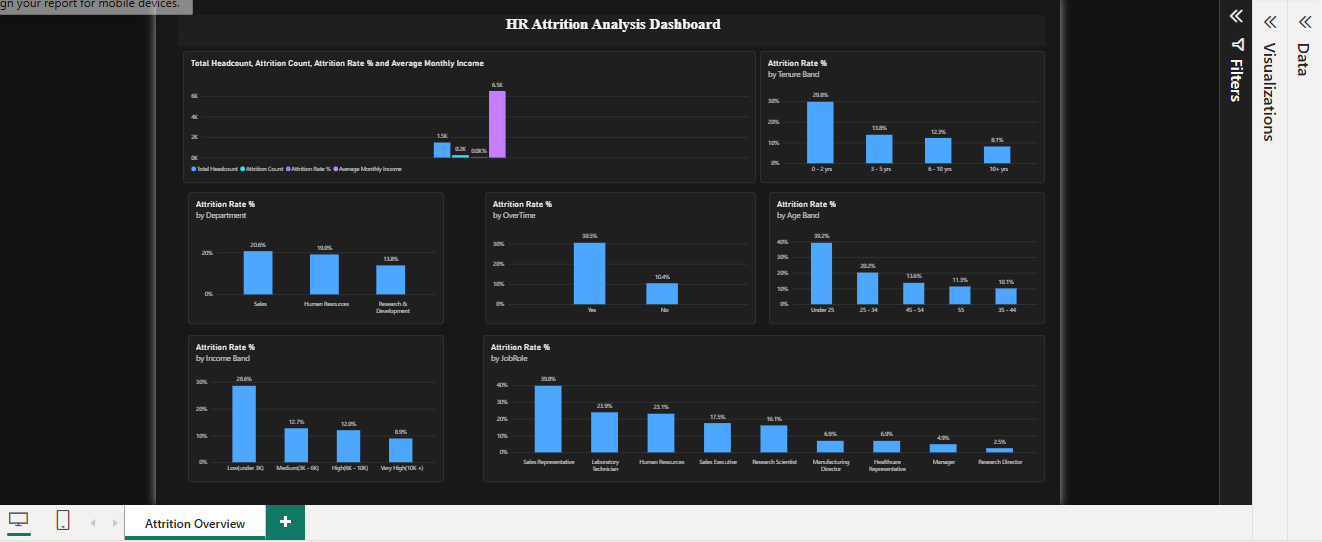

The page's visual inventory and layout, read from the dashboard file:
{"tool":"powerbi","page":{"name":"Attrition Overview","canvas":[1920,1080],"ordinal":0},"visuals":[{"type":"textbox","box":[46.8,38.3,1843.2,65.9],"z":0},{"type":"clusteredColumnChart","fields":{"Y":["HR Data.Total Headcount","HR Data.Attrition Count","HR Data.Attrition Rate %","HR Data.Average Monthly Income"]},"box":[57.4,114.8,1218.2,280.6],"z":1},{"type":"clusteredColumnChart","fields":{"Category":["HR Data.OverTime"],"Y":["HR Data.Attrition Rate %"]},"box":[699.4,414.6,576.1,280.6],"z":2},{"type":"clusteredColumnChart","fields":{"Category":["HR Data.Department"],"Y":["HR Data.Attrition Rate %"]},"box":[68,414.6,544.3,280.6],"z":3},{"type":"clusteredColumnChart","fields":{"Category":["HR Data.JobRole"],"Y":["HR Data.Attrition Rate %"]},"box":[695.2,718.6,1194.8,312.5],"z":4},{"type":"clusteredColumnChart","fields":{"Category":["HR Data.Age Band"],"Y":["HR Data.Attrition Rate %"]},"box":[1303.2,414.6,586.8,280.6],"z":5},{"type":"clusteredColumnChart","fields":{"Category":["HR Data.Income Band"],"Y":["HR Data.Attrition Rate %"]},"box":[68,718.6,544.3,312.5],"z":6},{"type":"clusteredColumnChart","fields":{"Category":["HR Data.Tenure Band"],"Y":["HR Data.Attrition Rate %"]},"box":[1284.1,114.8,605.9,280.6],"z":7}]}

Visuals, with their boxes in screenshot pixels (x1, y1, x2, y2):
textbox: 373:25:1251:56
clusteredColumnChart - HR Data.Total Headcount x HR Data.Attrition Count: 378:62:958:195
clusteredColumnChart - HR Data.OverTime x HR Data.Attrition Rate %: 684:204:958:338
clusteredColumnChart - HR Data.Department x HR Data.Attrition Rate %: 384:204:643:338
clusteredColumnChart - HR Data.JobRole x HR Data.Attrition Rate %: 682:349:1251:498
clusteredColumnChart - HR Data.Age Band x HR Data.Attrition Rate %: 972:204:1251:338
clusteredColumnChart - HR Data.Income Band x HR Data.Attrition Rate %: 384:349:643:498
clusteredColumnChart - HR Data.Tenure Band x HR Data.Attrition Rate %: 962:62:1251:195
